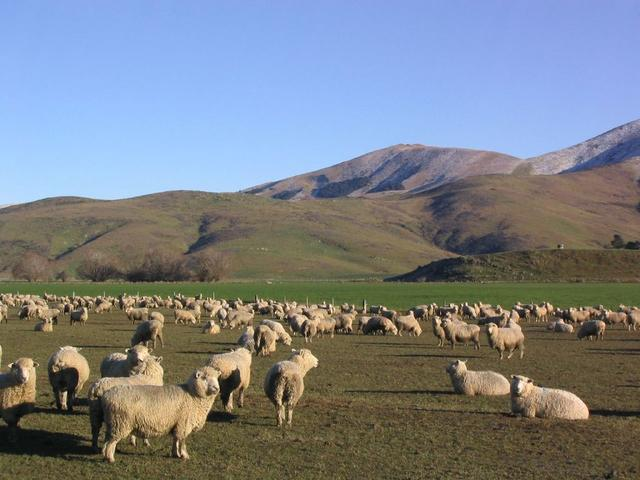sheep: (80, 363, 233, 461), (500, 368, 603, 426)
